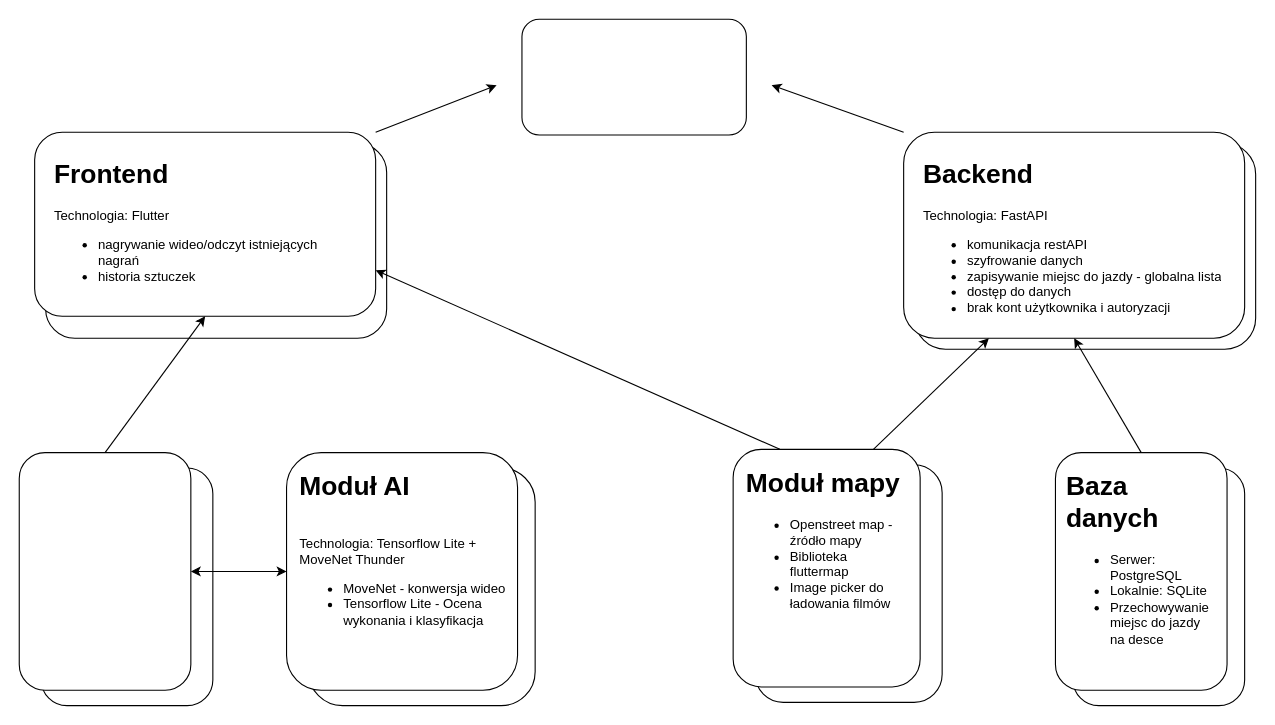
Image size: 1275x725. Some labels were removed from this diagram. Here are the shapes that lost their labels. From the top down, the box of each, then its label:
(521, 18, 746, 135): Aplikacja Mobilna
(18, 452, 191, 690): Moduł aparatu Flutter camera do nagrywania Image picker do ładowania filmów
